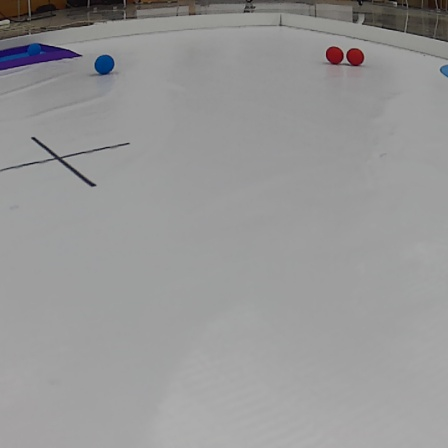blue: (91, 55, 119, 76), (27, 43, 41, 58)
blue_aim: (0, 38, 83, 73)
red: (345, 47, 366, 66), (323, 46, 345, 64)
